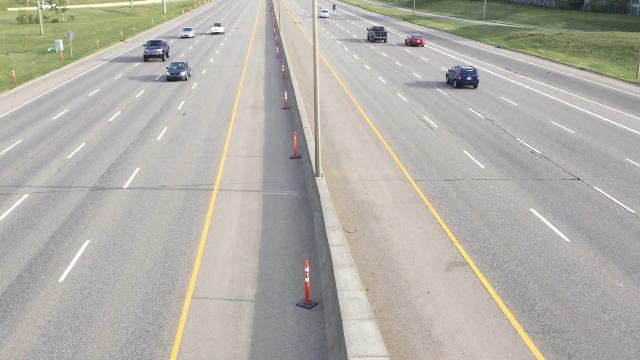car: (447, 64, 480, 89), (165, 60, 192, 81), (406, 33, 427, 48), (180, 26, 198, 39), (211, 21, 224, 34), (320, 9, 329, 18)
motorcycle: (331, 2, 337, 10)
pickup-truck: (142, 39, 171, 62), (366, 24, 390, 44)
